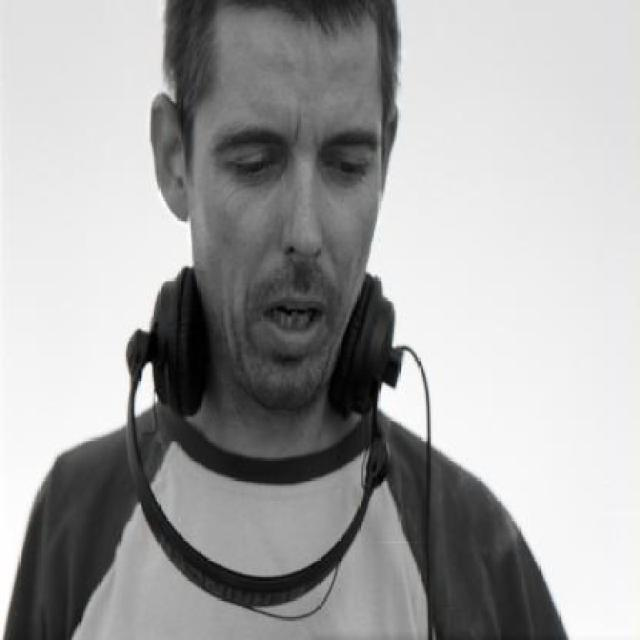earphone: (142, 245, 413, 613)
